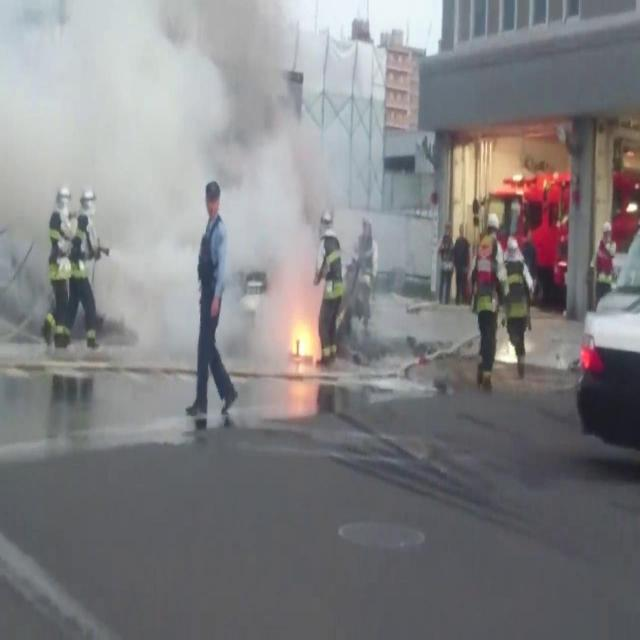fire: (279, 308, 325, 374)
